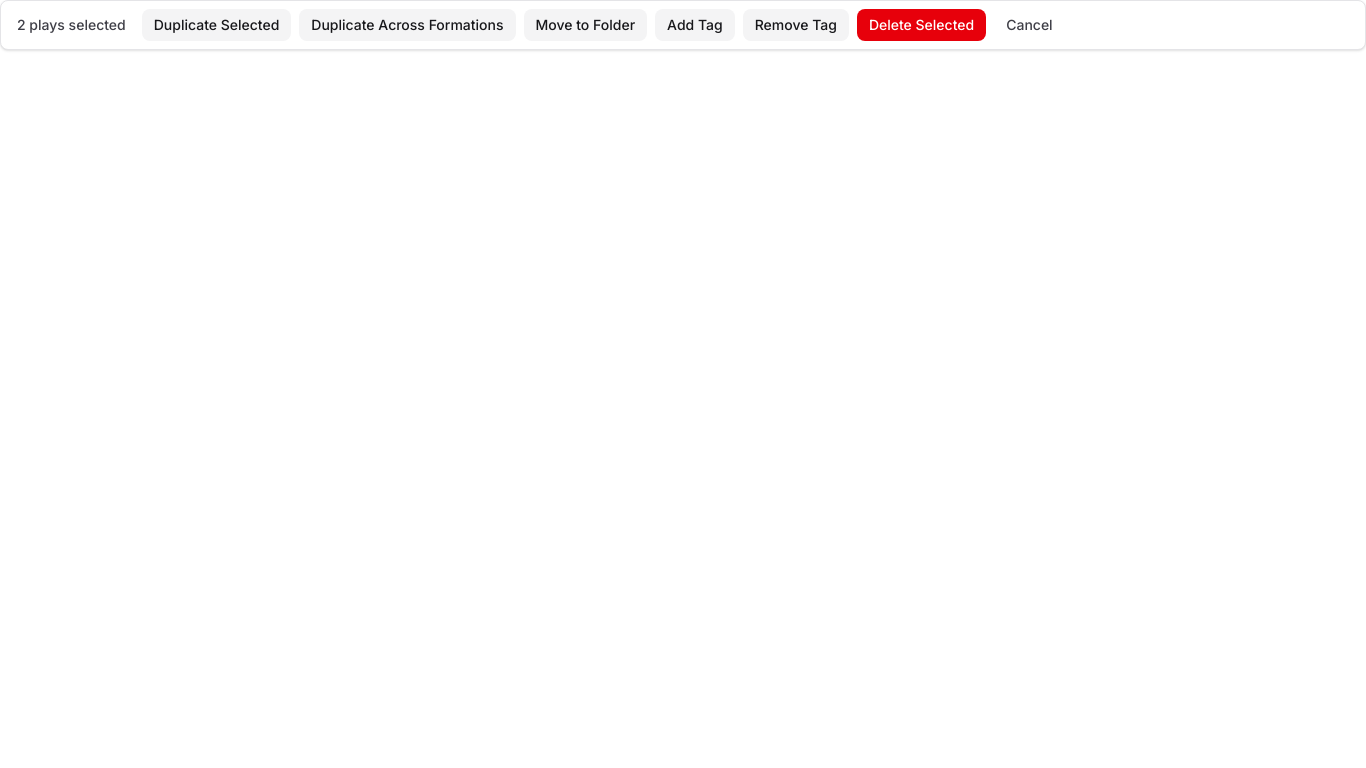
Test case: BulkOperations › opens add tag dialog
Click the button "Add Tag": (695, 25) [655,9,735,41]
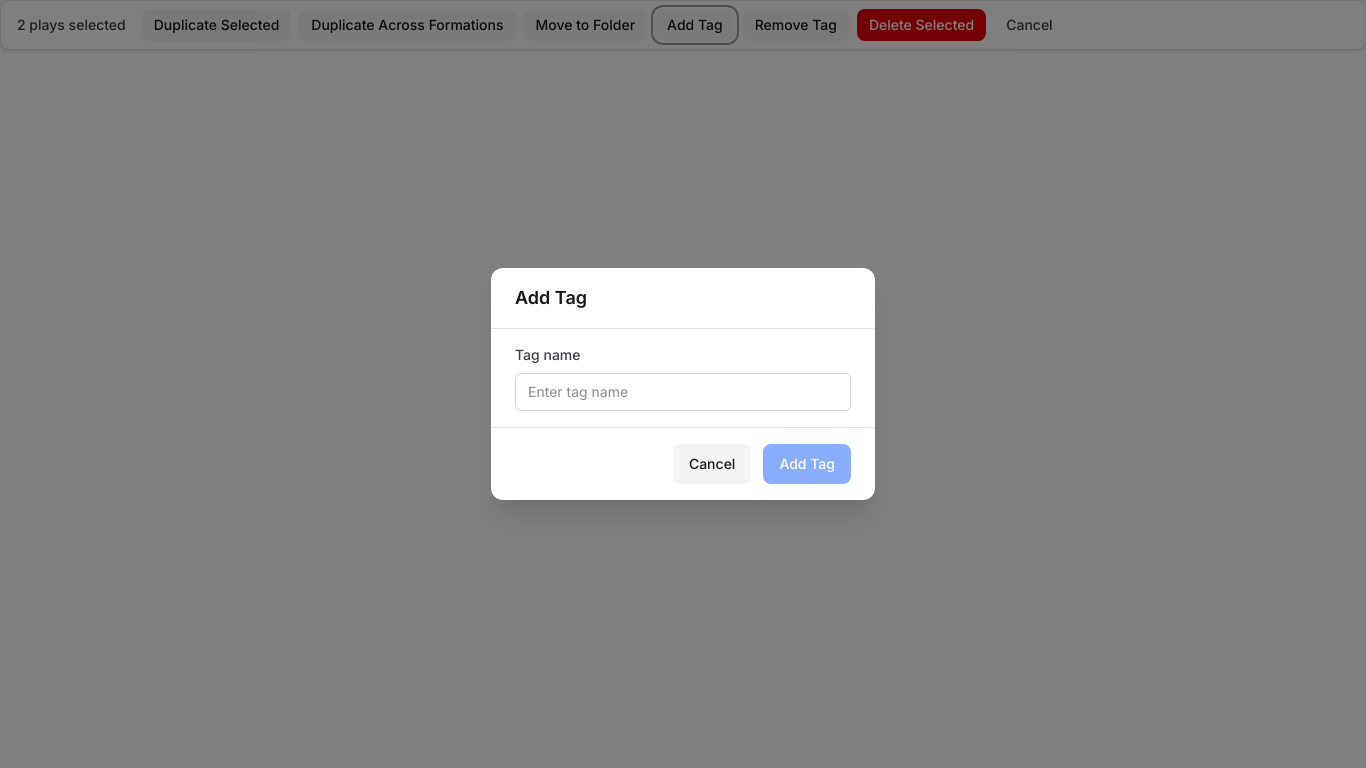
Check: the field with placeholder "Enter tag name" is shown, box [515,373,851,411]
